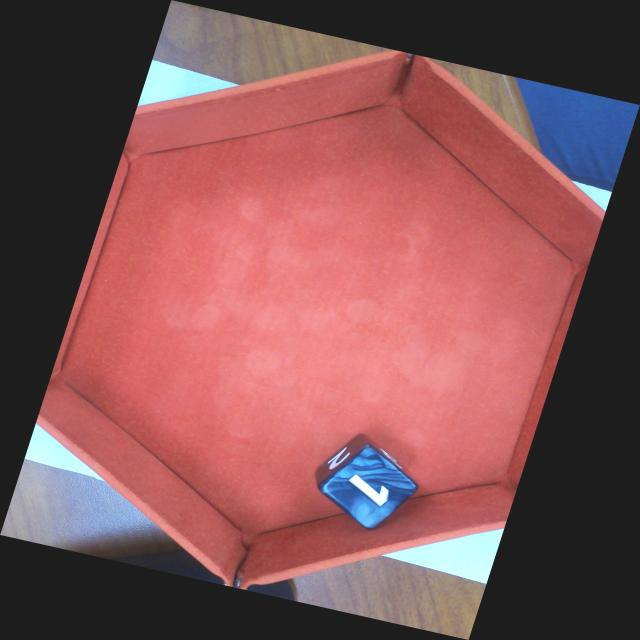dice: (323, 445, 417, 531)
